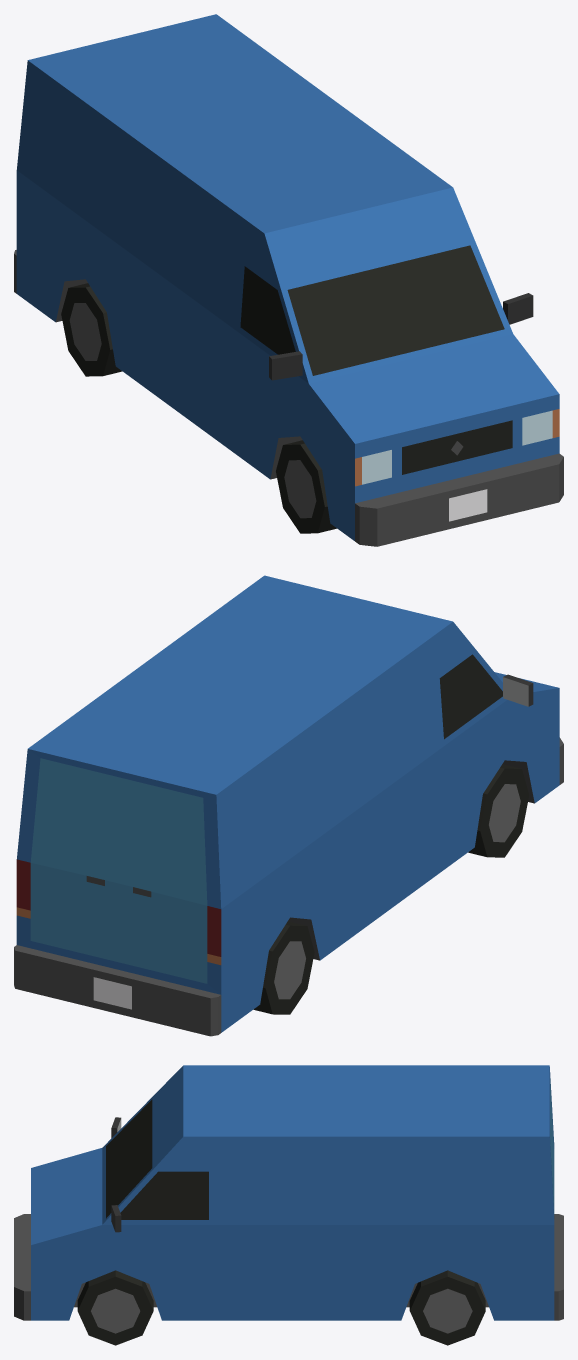
Rendered from Veh_Van_03_Blue.obj.
3 renders of one model, top to bottom at view 1: azimuth 30°, elevation 25°; view 2: azimuth 150°, elevation 25°; view 3: azimuth 270°, elevation 25°, orthographic. The views are drawn at different scales.
Size of the model in its own units: 1.41 by 1.37 by 3.31.
